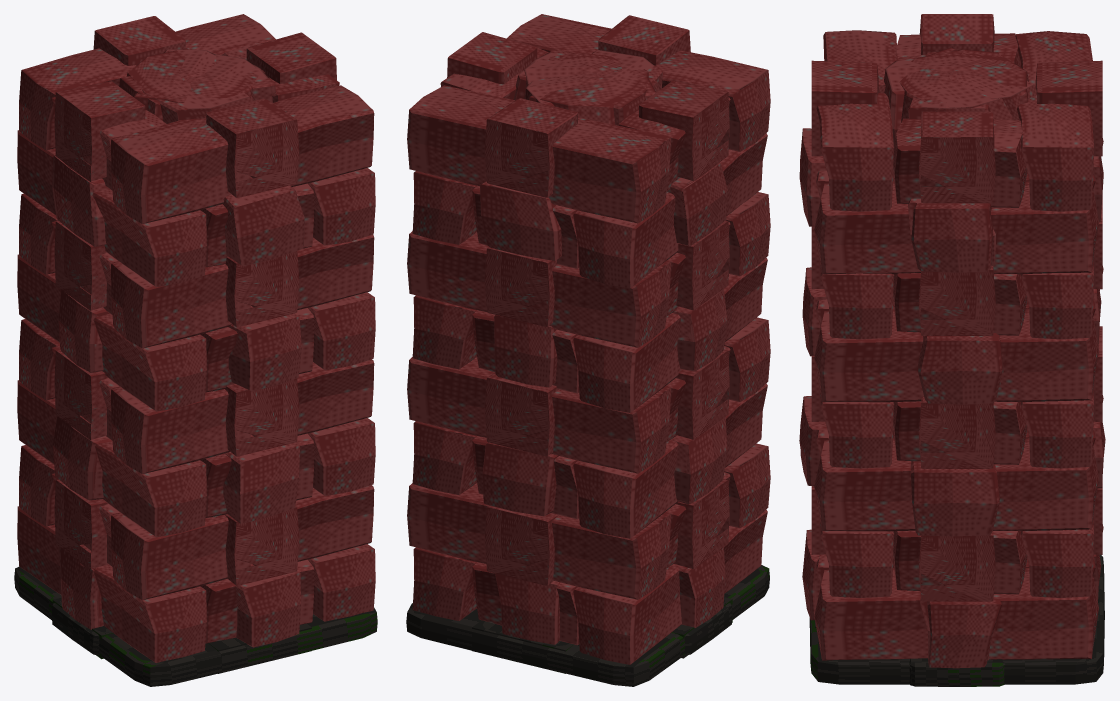
File: Brick_Wall_Set.fbx
The picture shows the model from 3 angles, left to right: view 1: azimuth 30°, elevation 25°; view 2: azimuth 150°, elevation 25°; view 3: azimuth 270°, elevation 25°; orthographic projection. The views are drawn at different scales.
Visible parts, largest first — view 1: Pillar, Cross_Intersection, Corner, Wall, T_Intersection, Cap; view 2: Pillar, Corner, Wall, Cross_Intersection, T_Intersection, Cap; view 3: Pillar, Cross_Intersection, Cap, Corner, Wall, T_Intersection.
Boxes of the visible parts, x1,y1,x2,y2 form: Pillar: (14, 14, 377, 686); Cross_Intersection: (164, 50, 334, 647); Corner: (52, 16, 216, 632); Wall: (51, 56, 275, 655); T_Intersection: (52, 48, 311, 673); Cap: (191, 32, 336, 102); Pillar: (406, 14, 770, 686); Corner: (480, 74, 729, 645); Wall: (513, 48, 732, 655); Cross_Intersection: (455, 15, 690, 647); T_Intersection: (472, 50, 732, 673); Cap: (447, 32, 597, 560); Pillar: (809, 30, 1104, 684); Cross_Intersection: (799, 56, 1012, 685); Cap: (908, 74, 995, 660); Corner: (924, 42, 1105, 600); Wall: (908, 14, 1005, 686); T_Intersection: (815, 51, 1099, 627).
Size of the model in its own units: 421 by 837 by 421.
